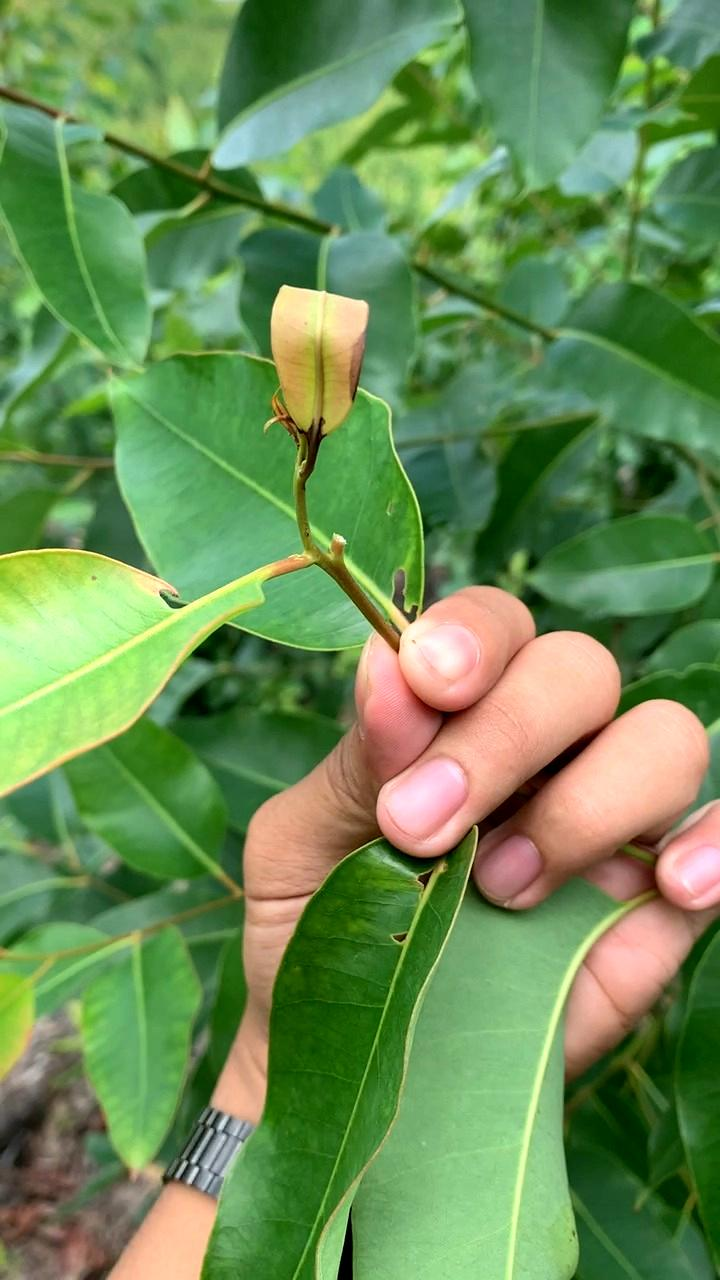Helopeltis-Withered Sprout: (265, 280, 379, 492)
